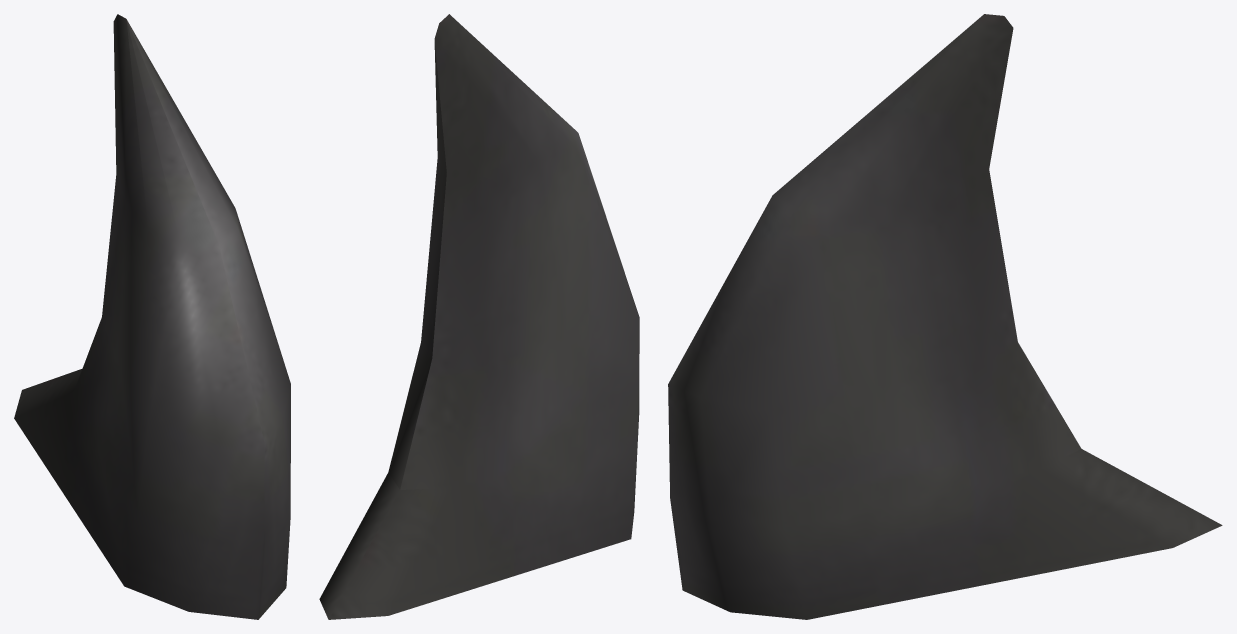
The model's file is tt_m_chr_avt_acc_pac_sharkFin.glb.
3 views of the same model, side by side, from view 1: azimuth 30°, elevation 25°; view 2: azimuth 150°, elevation 25°; view 3: azimuth 270°, elevation 25° (orthographic). The views are drawn at different scales.
Visible parts, largest first — view 1: sharkFin; view 2: sharkFin; view 3: sharkFin.
Part boxes in pixels (<box>): sharkFin: <box>14,14,290,619</box>; sharkFin: <box>319,14,639,619</box>; sharkFin: <box>668,14,1222,619</box>.
Bounding box in the file's own units: 1.35 × 4.1 × 3.57.
1 material, 1 textured.
